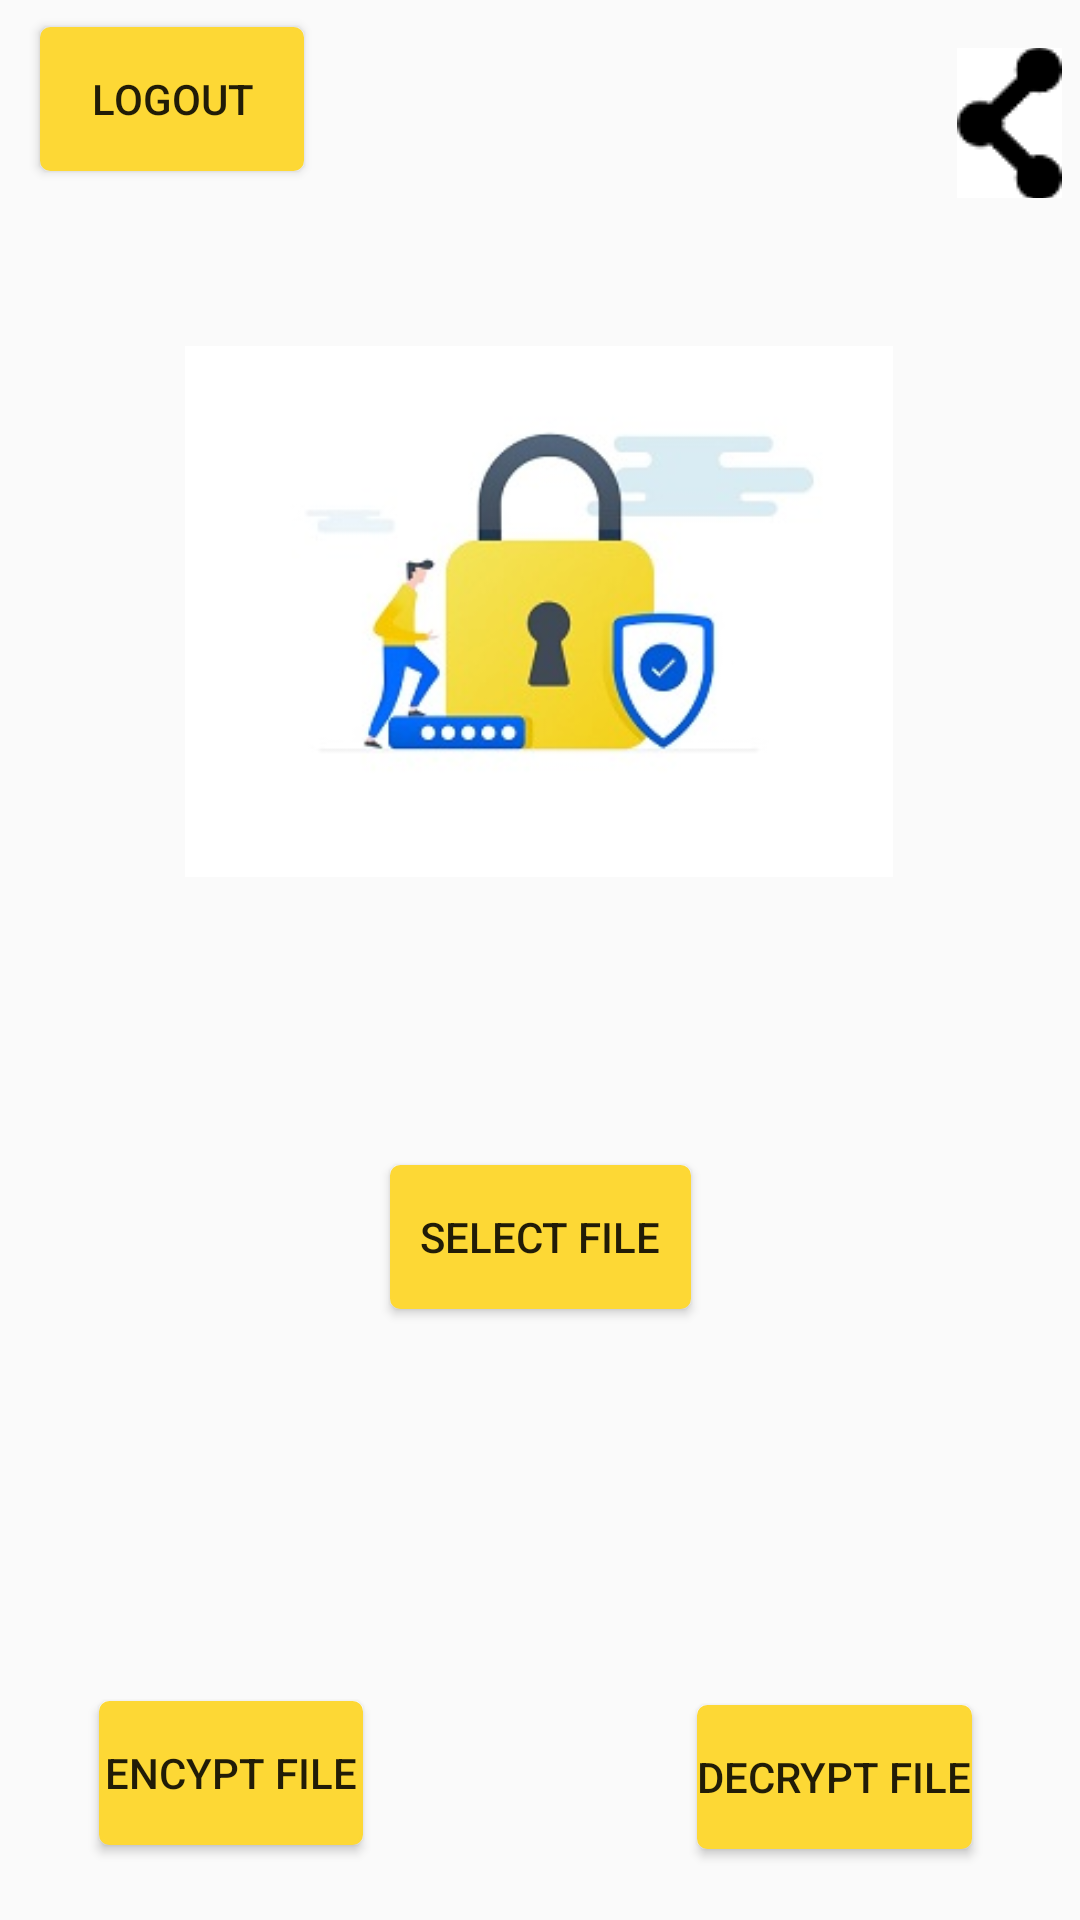

Where to tap for icons on this 1080w x 1920h app screen, as (x,y):
sharepng: (1009,123)
